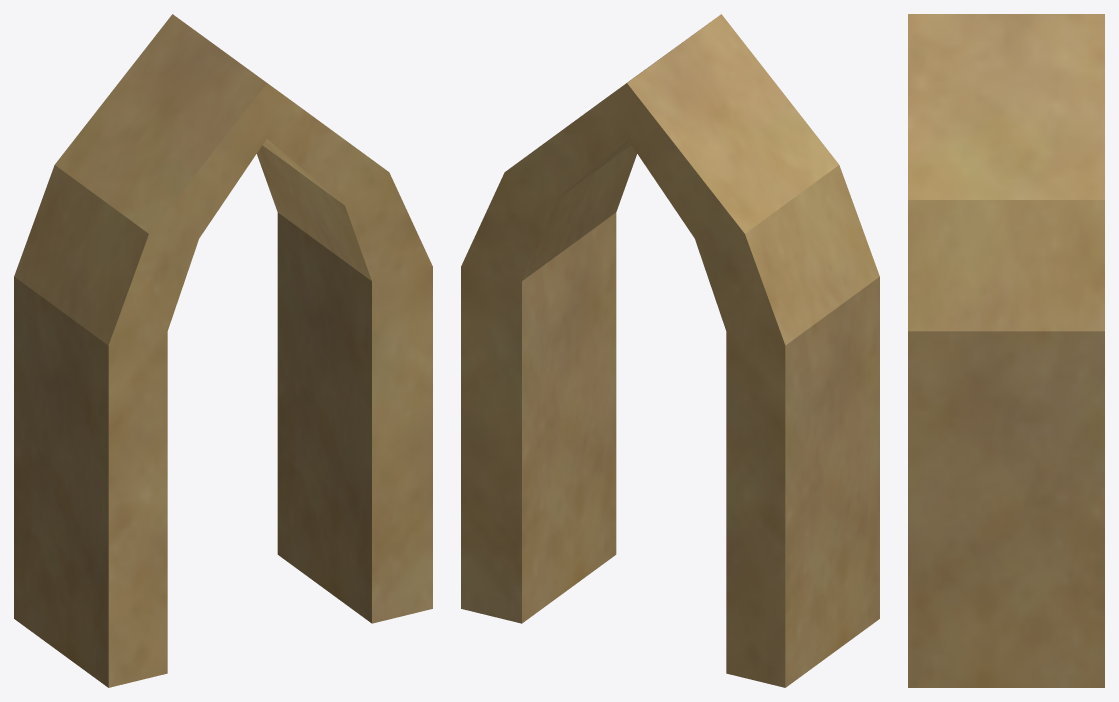
File: Arc.fbx
3 views of the same model, side by side, from view 1: azimuth 30°, elevation 25°; view 2: azimuth 150°, elevation 25°; view 3: azimuth 270°, elevation 25° (orthographic). The views are drawn at different scales.
Parts seen in each view (by area): view 1: Cube.002; view 2: Cube.002; view 3: Cube.002.
Boxes of the visible parts, x1=… form: Cube.002: x1=14, y1=14, x2=432, y2=687; Cube.002: x1=461, y1=14, x2=879, y2=687; Cube.002: x1=908, y1=14, x2=1104, y2=687.
Bounding box in the file's own units: 198 × 331 × 100.
